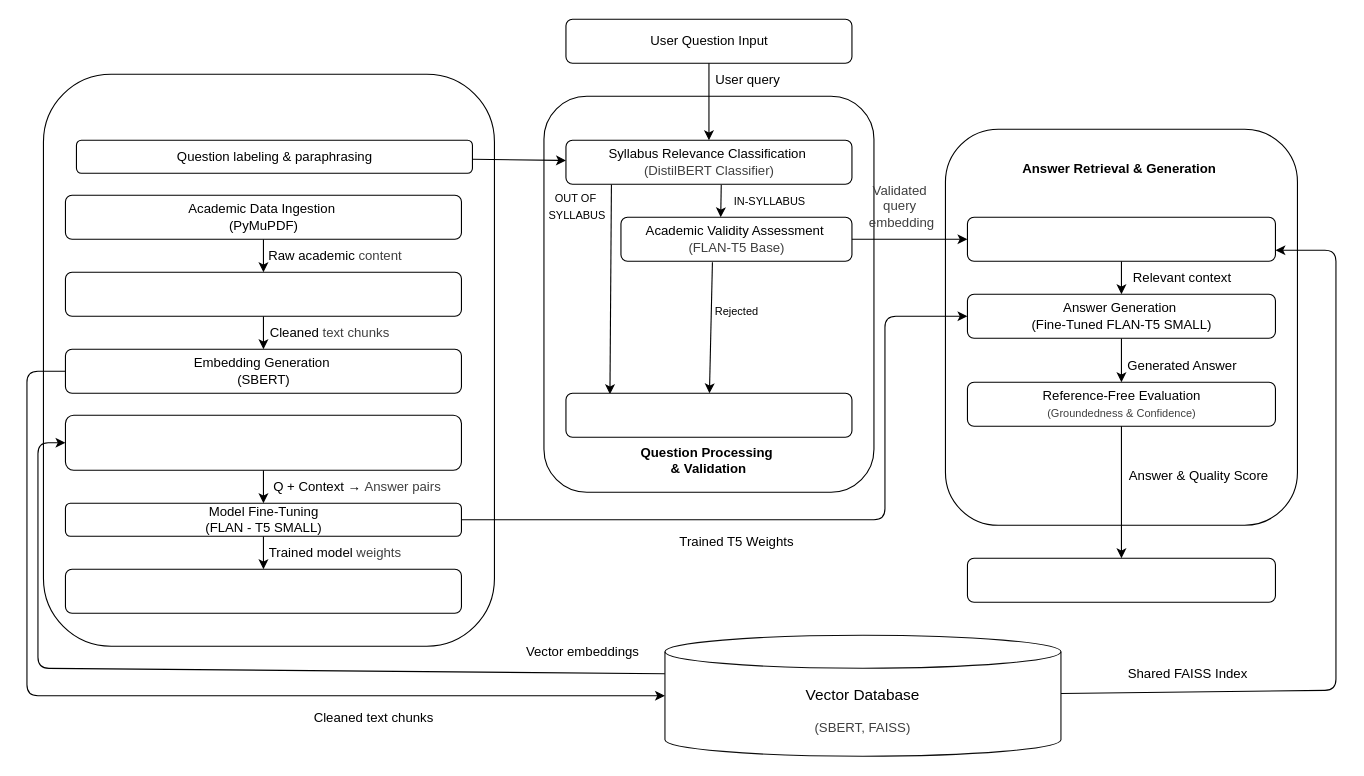
This 1364x776 diagram has some shape labels left out. Here are the shapes that lost their labels. From the top down, the box of each, then its label:
(966, 216, 1275, 261): Context Retrieval (FAISS)
(64, 271, 461, 316): Text Cleaning and chunking (SpaCy, Regex)
(565, 392, 852, 437): Reject Question (Out of Syllabus)
(64, 414, 461, 470): Context-Aware Dataset Creation (FAISS Retriever)
(64, 568, 461, 613): Evaluation (ROUGE / BLEU / SBERT)
(966, 557, 1275, 602): Final Answer Output
